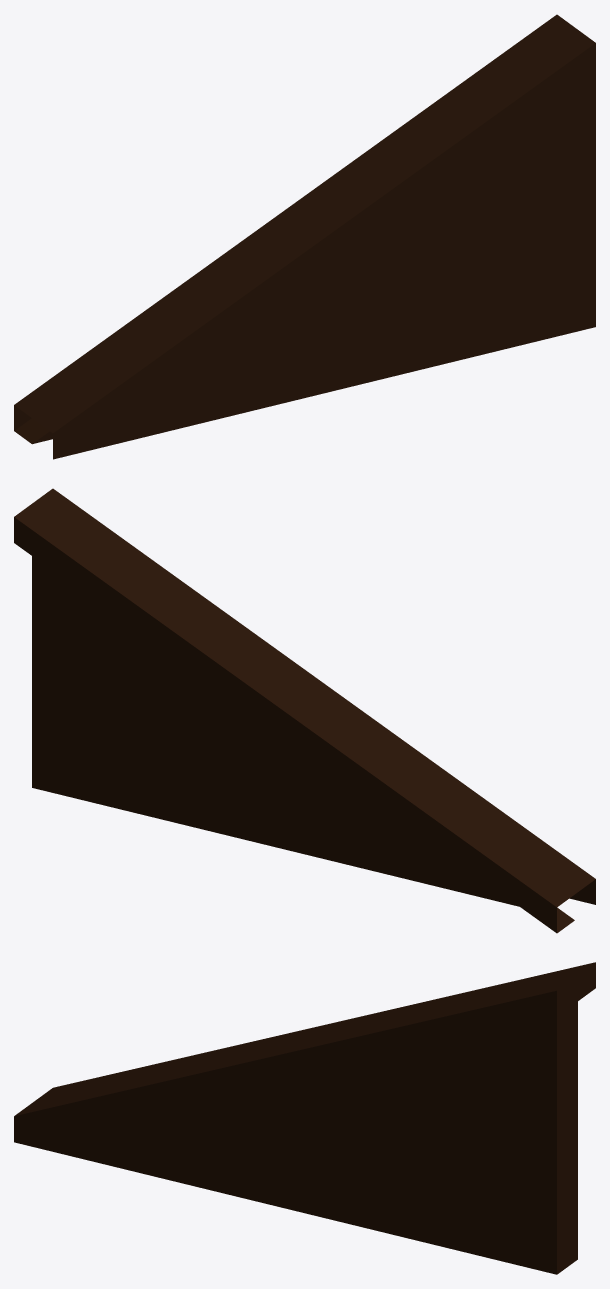
File: Wall_Plaster_Roof_Side_01A.fbx
3 renders of one model, top to bottom at view 1: azimuth 30°, elevation 25°; view 2: azimuth 150°, elevation 25°; view 3: azimuth 330°, elevation 25°, orthographic.
Visible parts, largest first — view 1: Roof_001; view 2: Roof_001; view 3: Roof_001.
Boxes of the visible parts, left/top/right/bottom form: Roof_001: left=14, top=14, right=595, bottom=459; Roof_001: left=14, top=488, right=595, bottom=933; Roof_001: left=14, top=962, right=595, bottom=1274.
Size of the model in its own units: 300 by 150 by 37.28.
